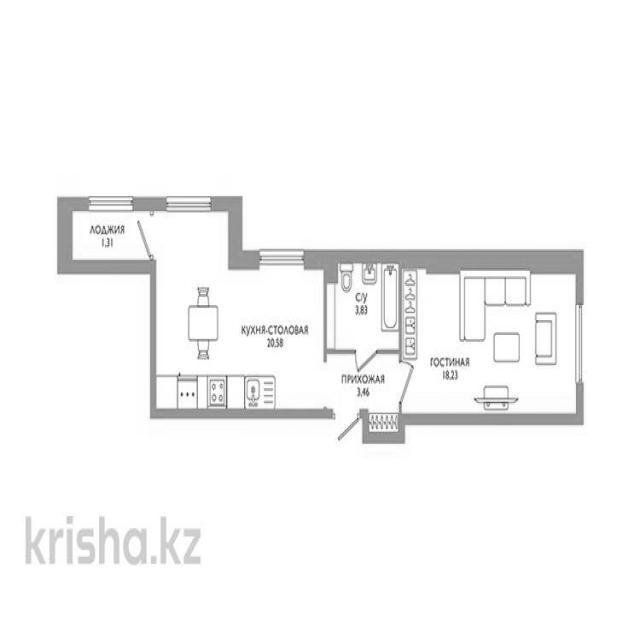bathroom: (328, 259, 404, 354)
hallway: (63, 206, 233, 265), (331, 357, 402, 425)
kitchen: (151, 269, 327, 413)
living_room: (406, 259, 584, 417)
